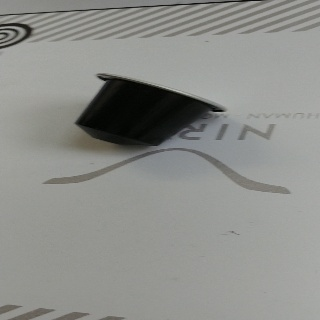capsule_10: (74, 71, 228, 147)
